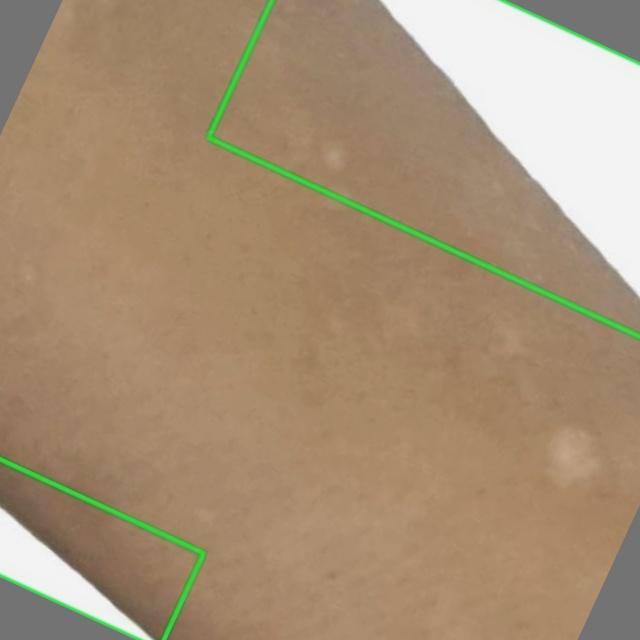Atopic Dermatitis: (208, 0, 639, 336)
